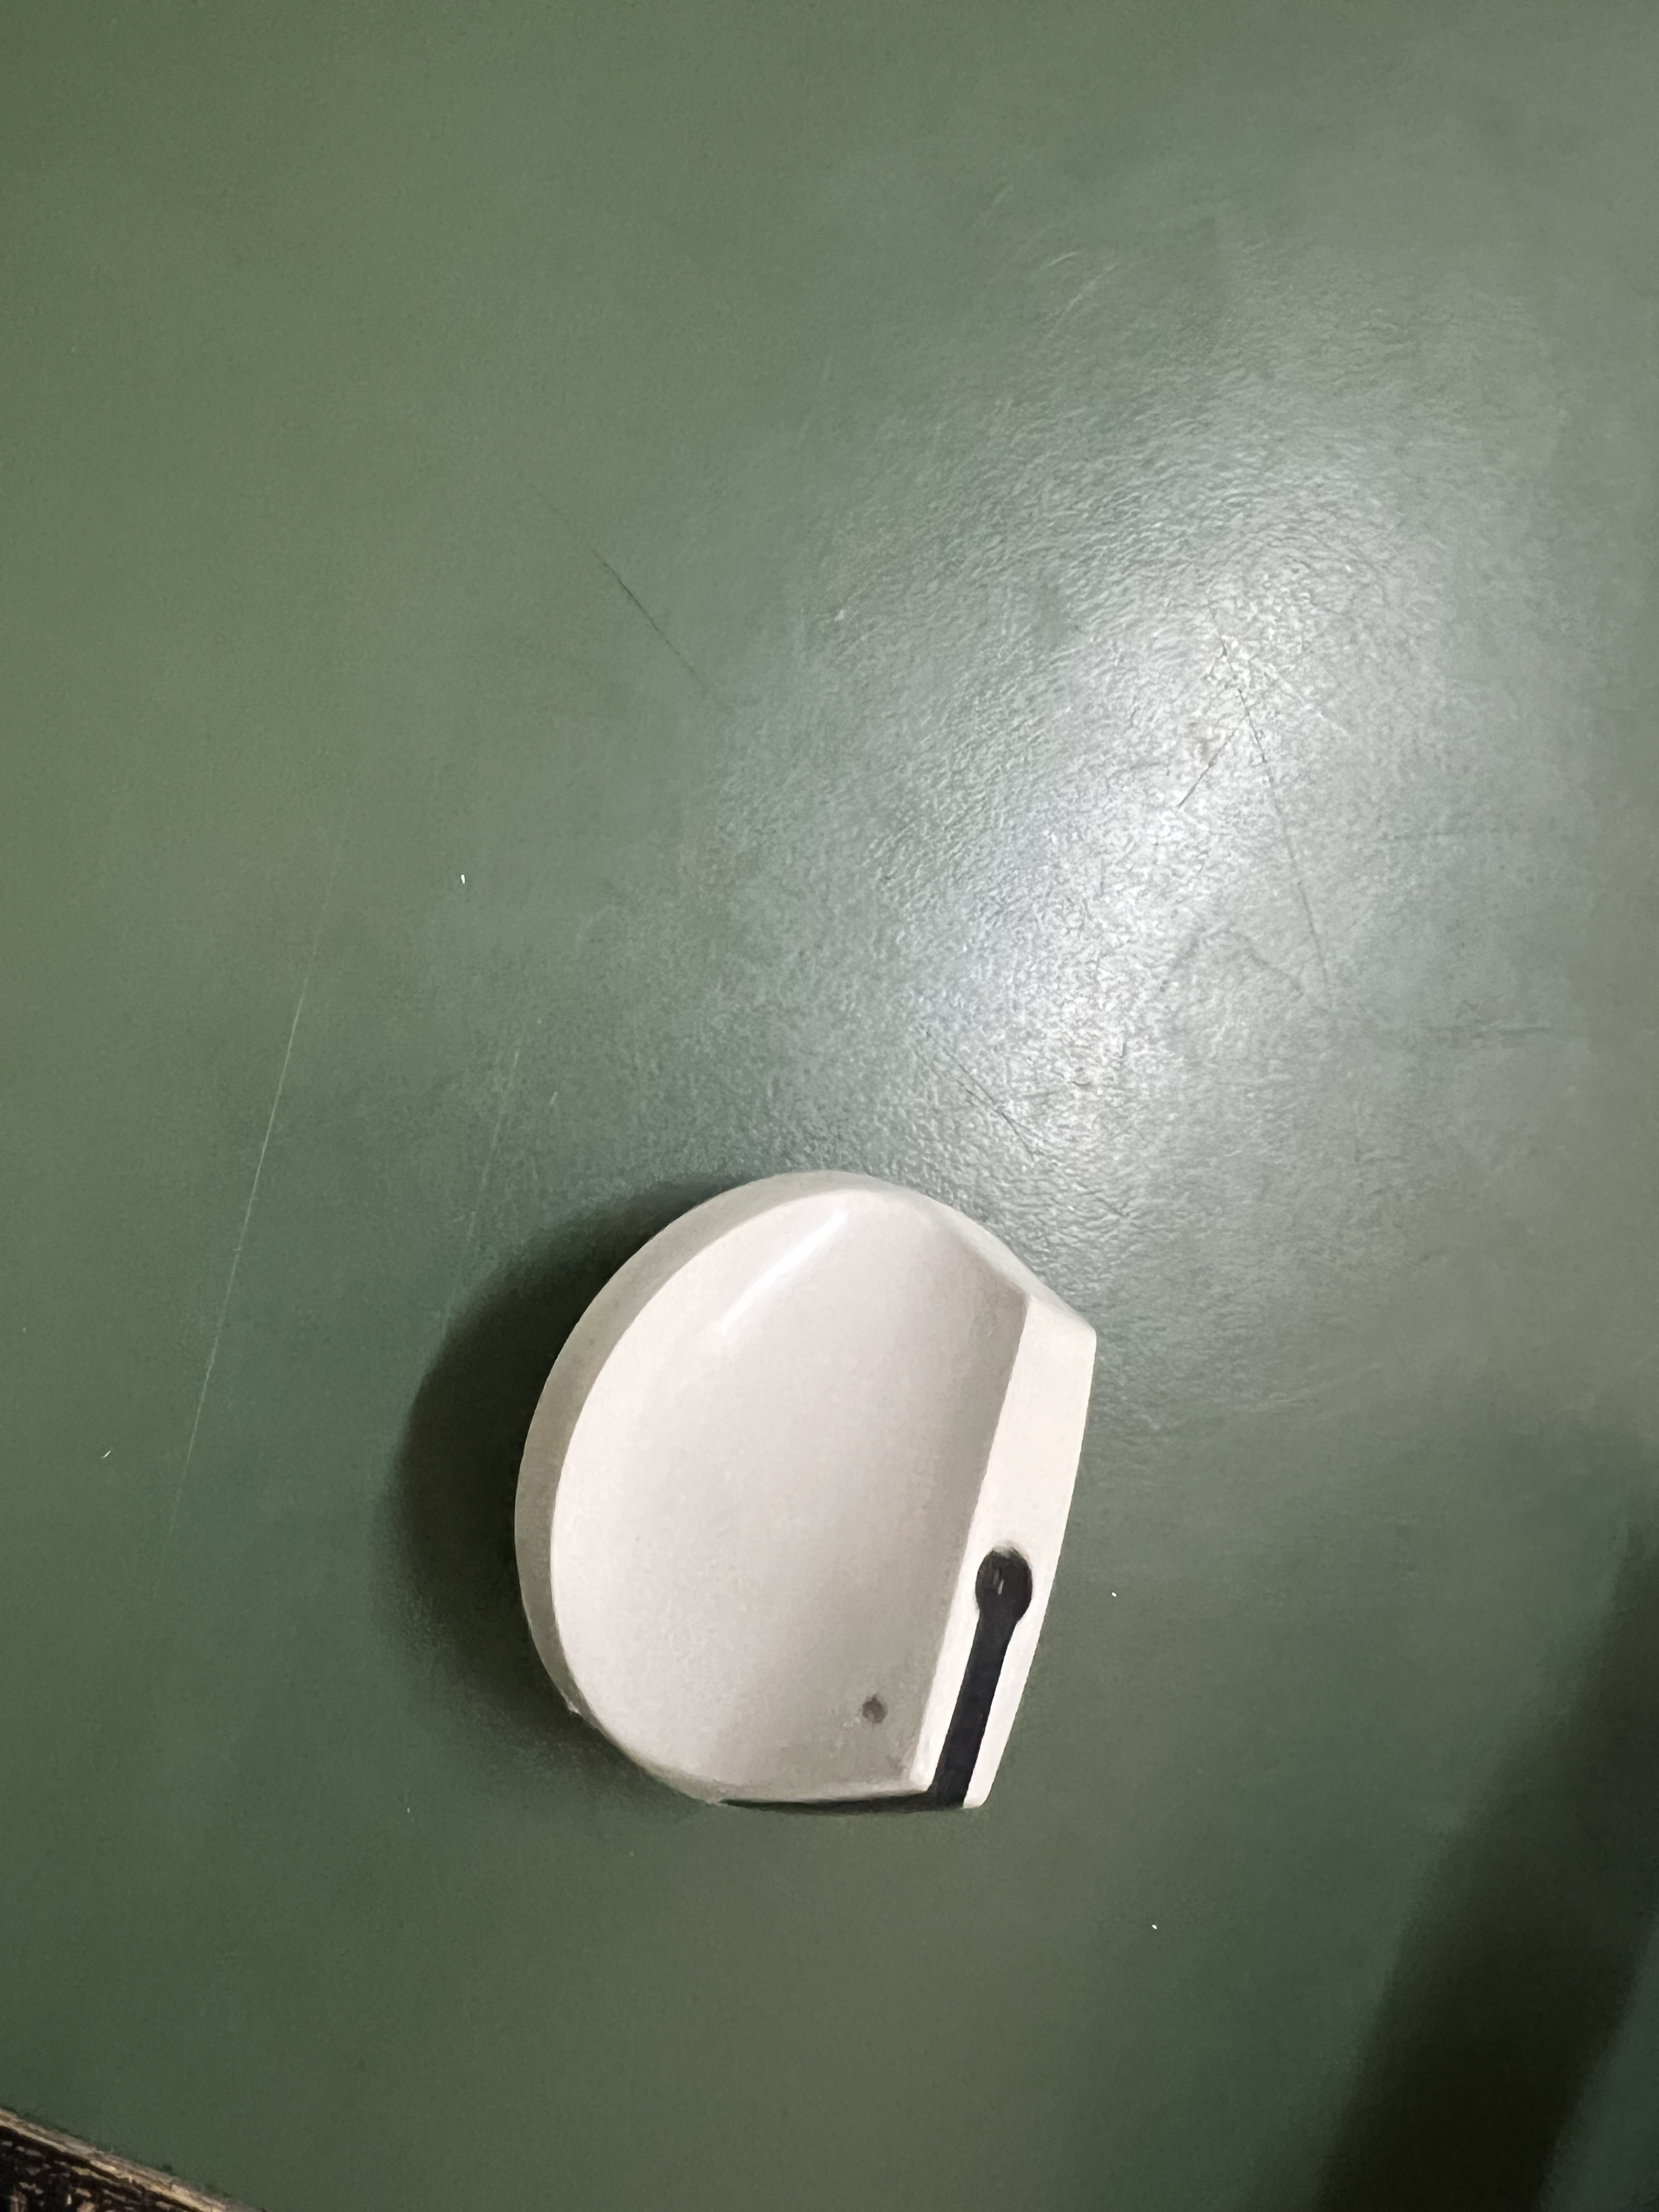regulator: (519, 1143, 1117, 1836)
